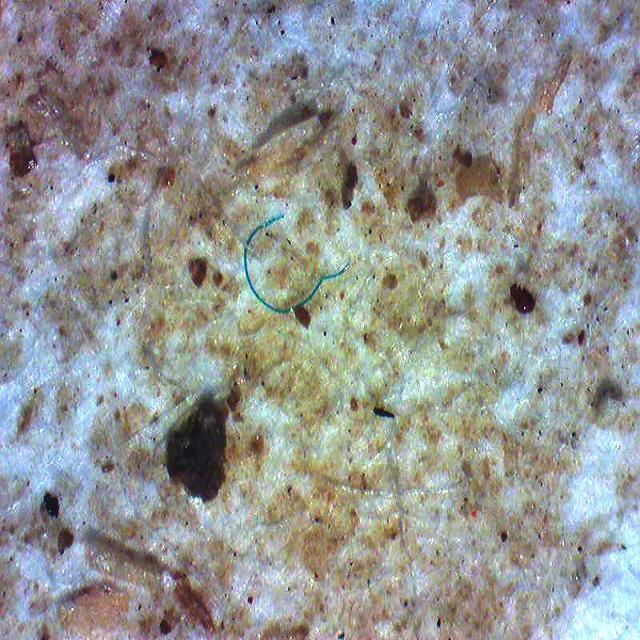microplastic: (244, 216, 350, 314)
